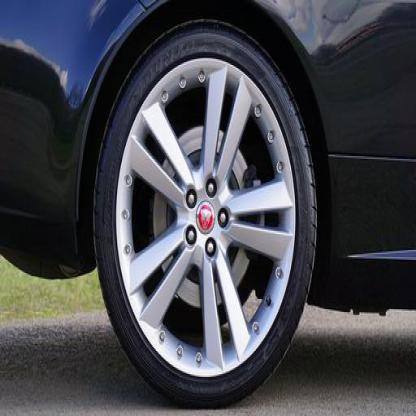Tire: (92, 16, 318, 410)
